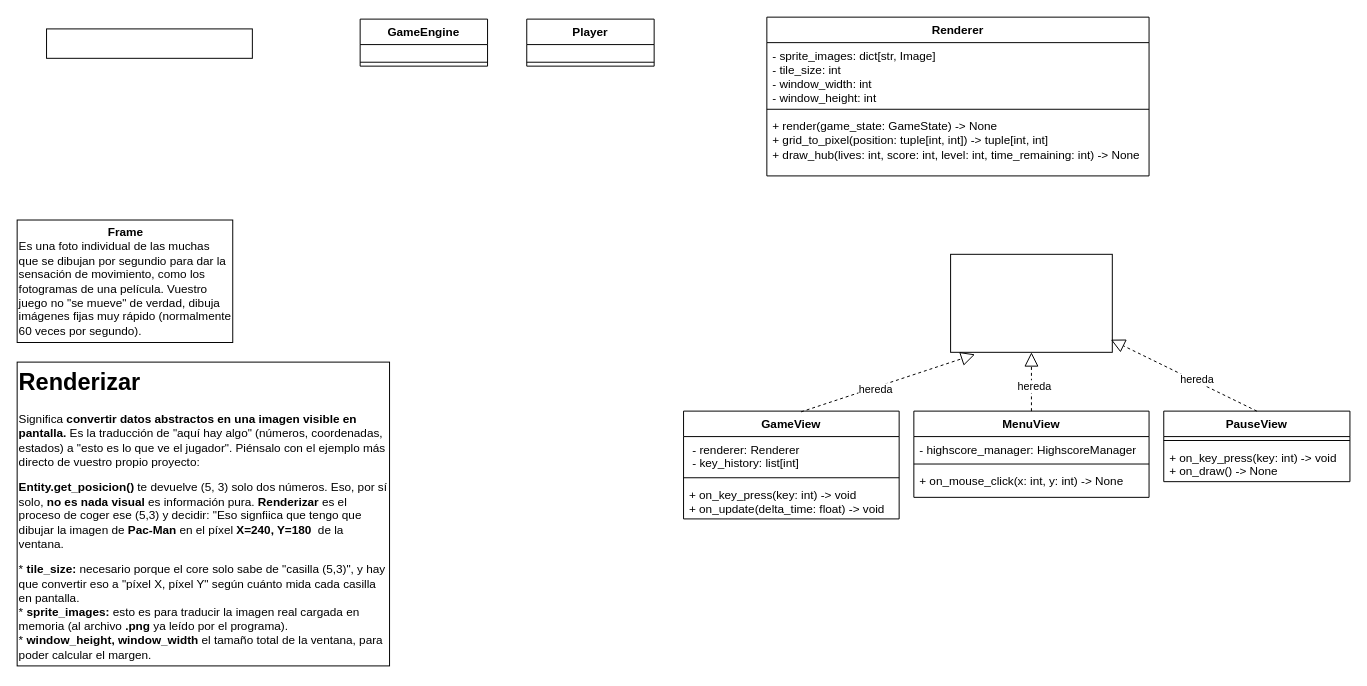
Some shapes in this 1367 by 686 pixel diagram are drawn without their labels. The centre of each missing label's shape, as x and y in pixels:
<<Abstract>> View - game_engine: GameEngine + on_draw() -> None: (x=1031, y=302)
HUD (vidas, score, tiempo, nivel): (x=149, y=43)
